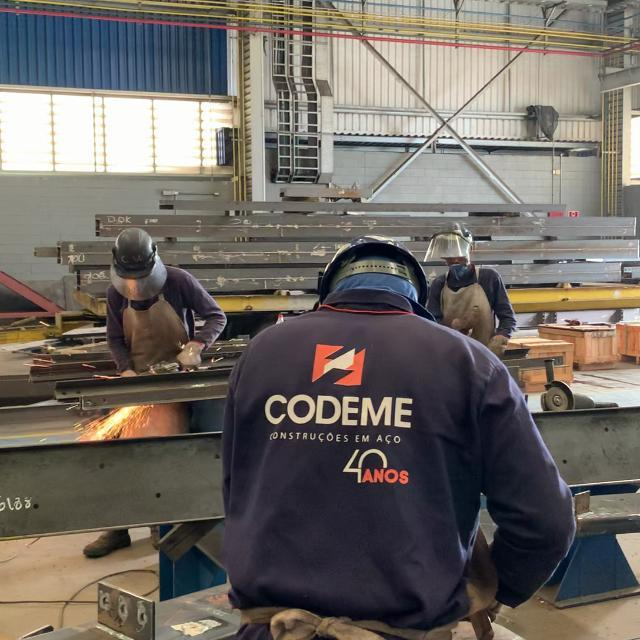eye-glass: (108, 257, 167, 304), (424, 232, 467, 265)
face-shield: (175, 341, 204, 373), (487, 331, 507, 360)
glove: (113, 226, 155, 281), (428, 221, 474, 245)
mask: (220, 234, 578, 627), (105, 227, 228, 372), (422, 224, 519, 357)
